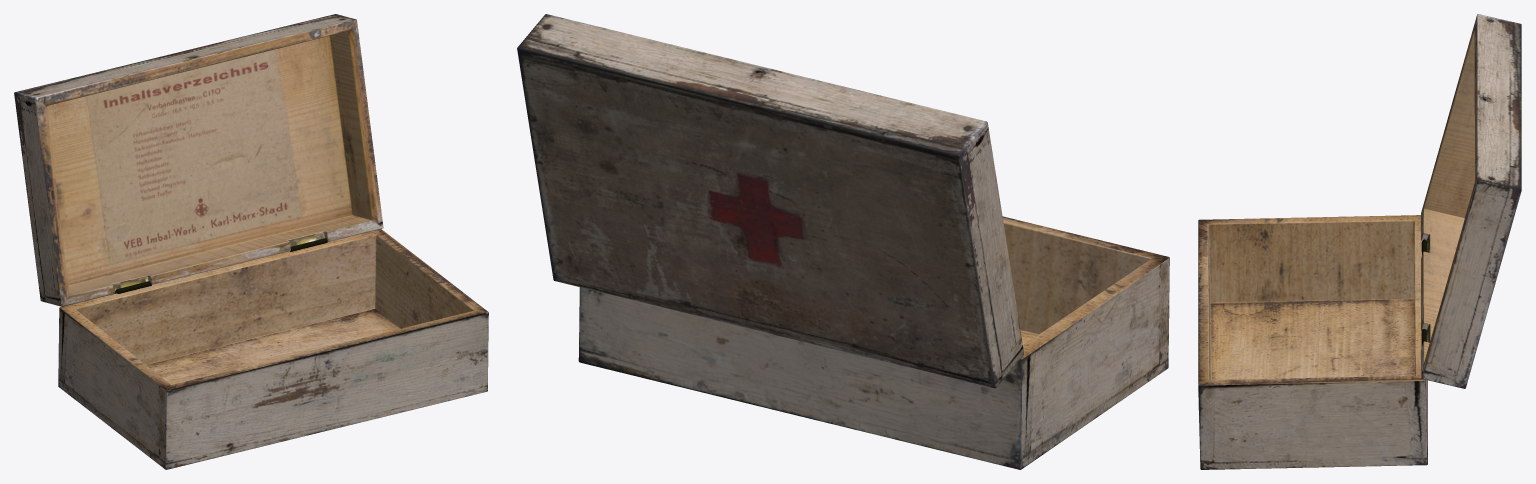
The model's file is world_war_2_medical_box.glb.
The picture shows the model from 3 angles, left to right: view 1: azimuth 30°, elevation 25°; view 2: azimuth 150°, elevation 25°; view 3: azimuth 270°, elevation 25°; orthographic projection. The views are drawn at different scales.
Visible parts, largest first — view 1: Box Door, Box; view 2: Box Door, Box; view 3: Box, Box Door.
Boxes of the visible parts, <box> form: Box Door: <box>14,14,383,306</box>; Box: <box>58,229,488,469</box>; Box Door: <box>517,14,1023,388</box>; Box: <box>578,216,1169,469</box>; Box: <box>1198,215,1427,469</box>; Box Door: <box>1421,14,1521,388</box>.
Bounding box in the file's own units: 4.49 × 3.67 × 3.7.
Materials: 2 (1 with a texture image).
